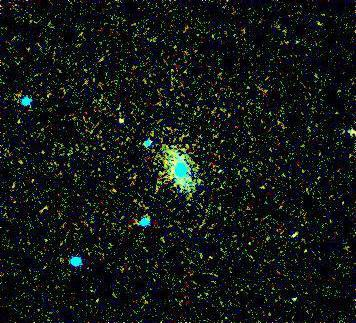star: (103, 108, 133, 138)
